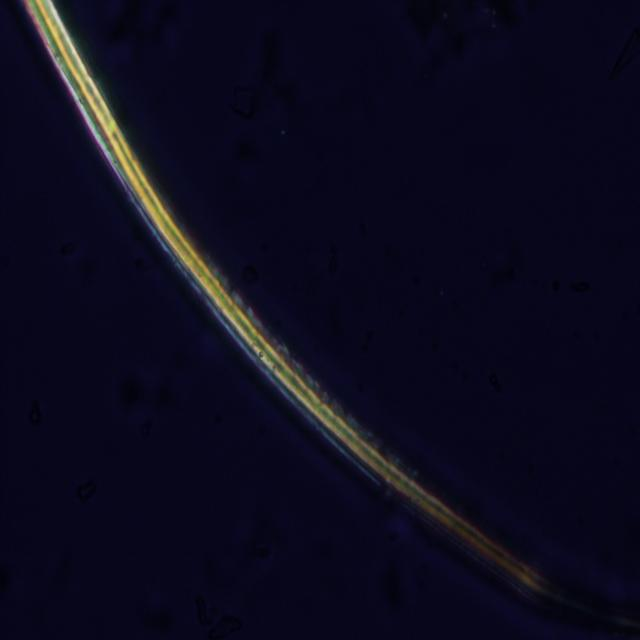Microfibre: (24, 1, 628, 627)
